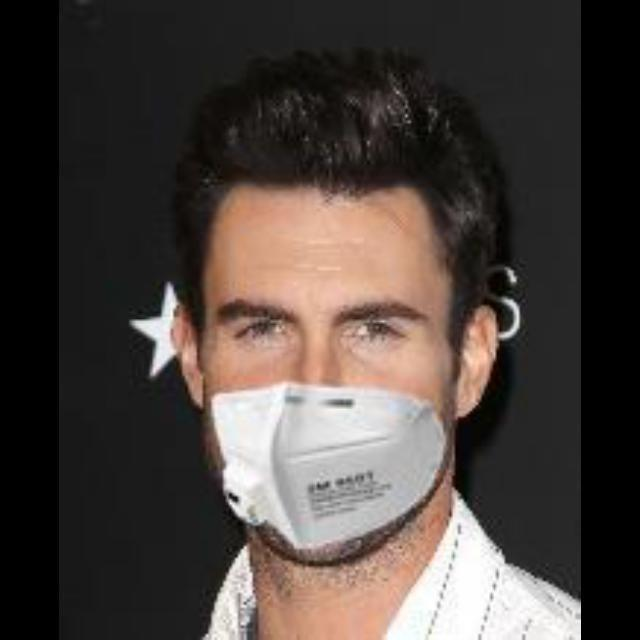1_mascarilla: (208, 380, 446, 550)
